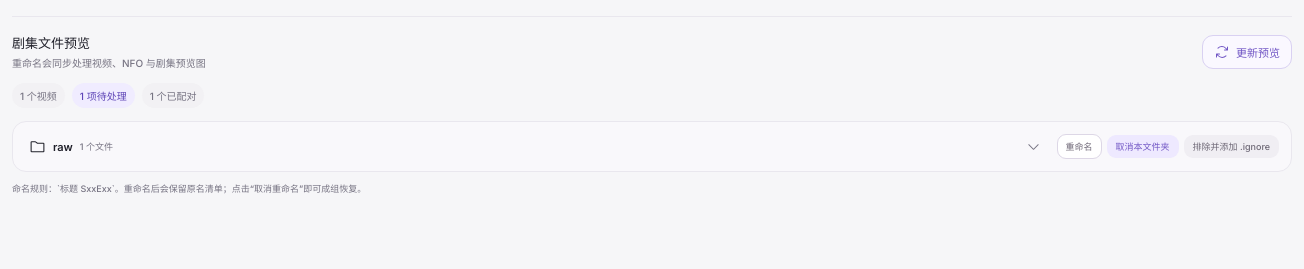
NfoPreviewPanel › allows an existing sidecar to be selected for managed update
Step 1. Click the button "raw 1 个文件" → [38, 146], box [25,134,1044,159]
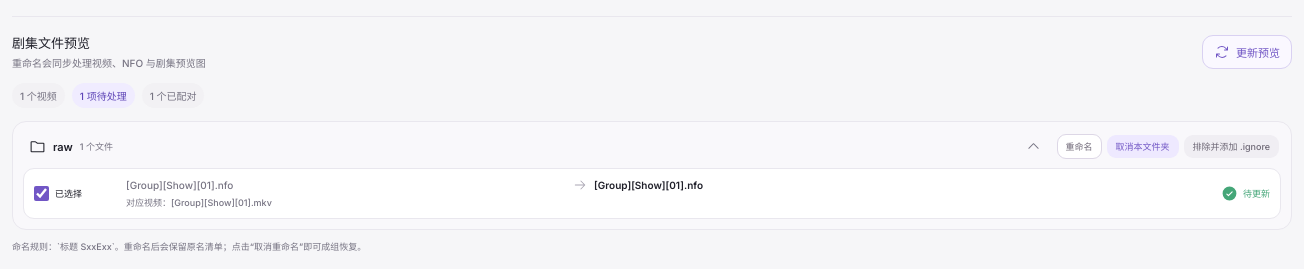
expect the checkbox named "处理 NFO [Group][Show][01].nfo" is enabled: met, box [34,186,49,201]
expect the checkbox named "处理 NFO [Group][Show][01].nfo" is checked: met, box [34,186,49,201]
expect the text "待更新" is shown: met, box [1243,187,1270,200]
